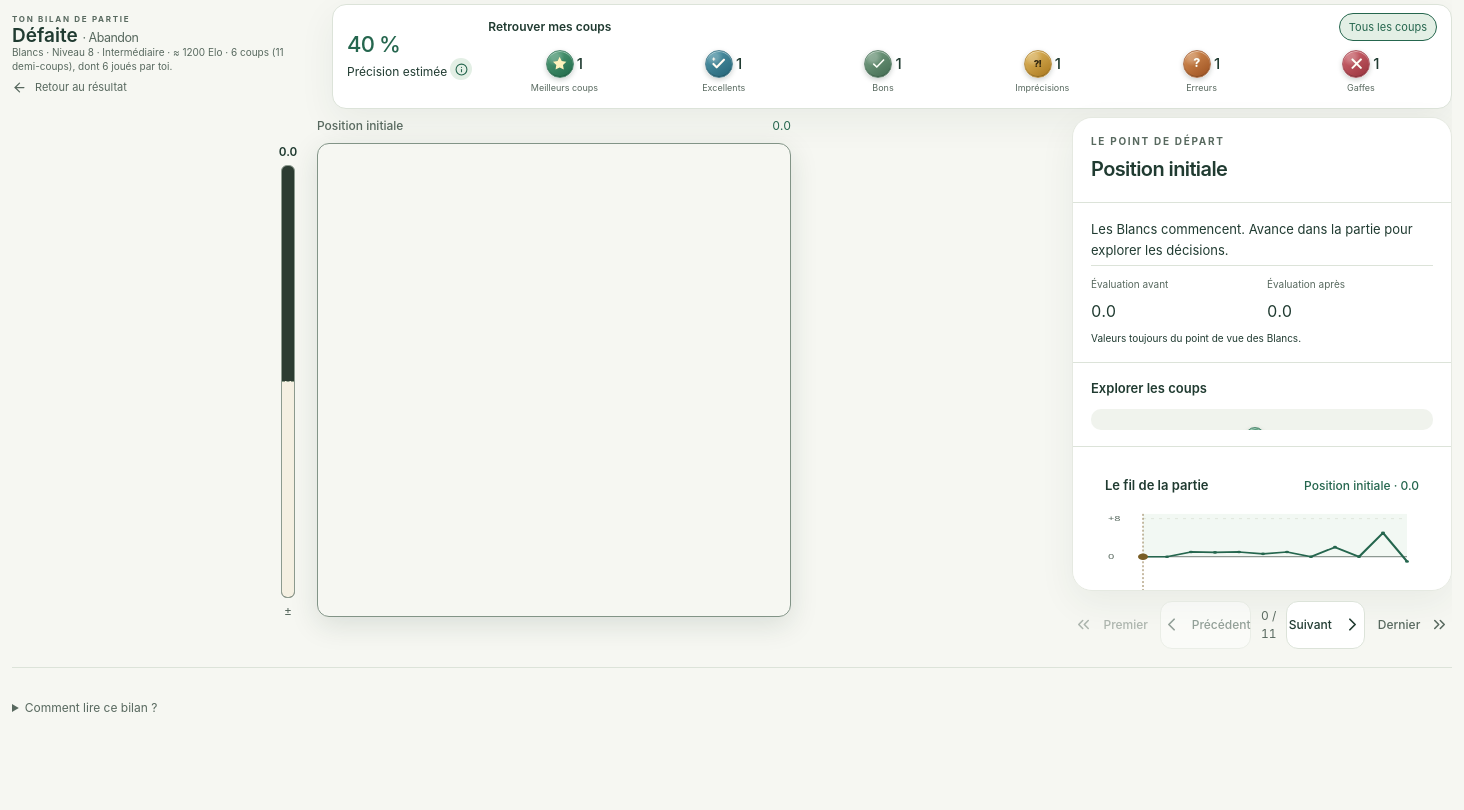
Scenario: Bilan : filtres de classifications synchronisés › tolère un ancien bilan sans meilleur coup et garde le commentaire
Click the button with aria-label "Gaffes, 1 coup". click: (1361, 72)
box: [1285,45,1437,100]
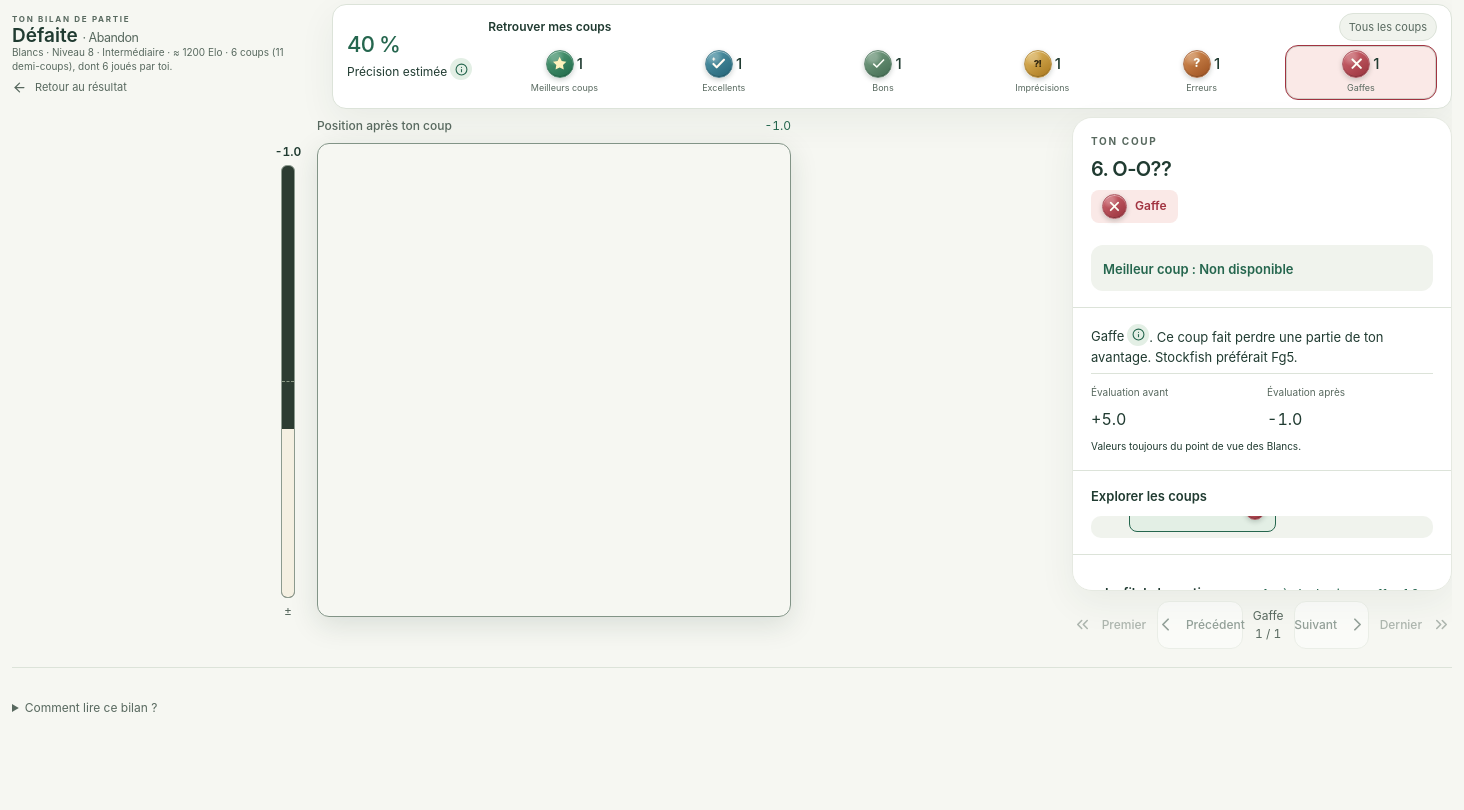
Now the text "Meilleur coup : Non disponible" is shown, box [1103,260,1294,276]
Now the element with test id "review-comment" is not empty, box [1091,324,1433,369]
